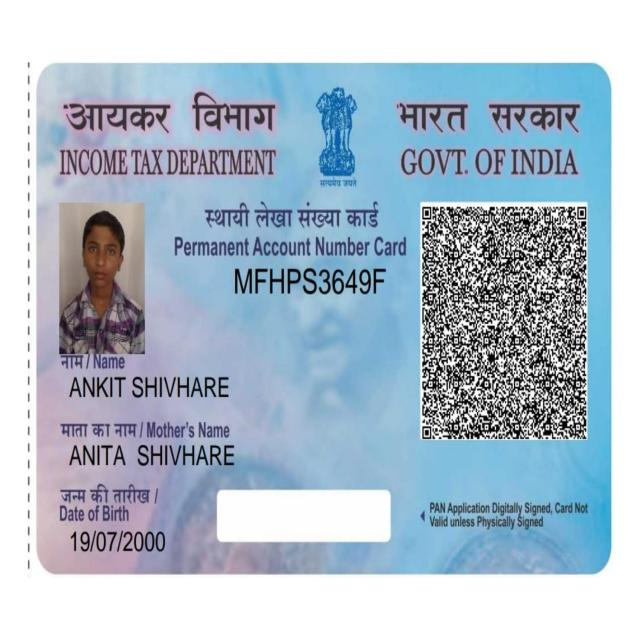pan_card: (38, 65, 609, 571)
